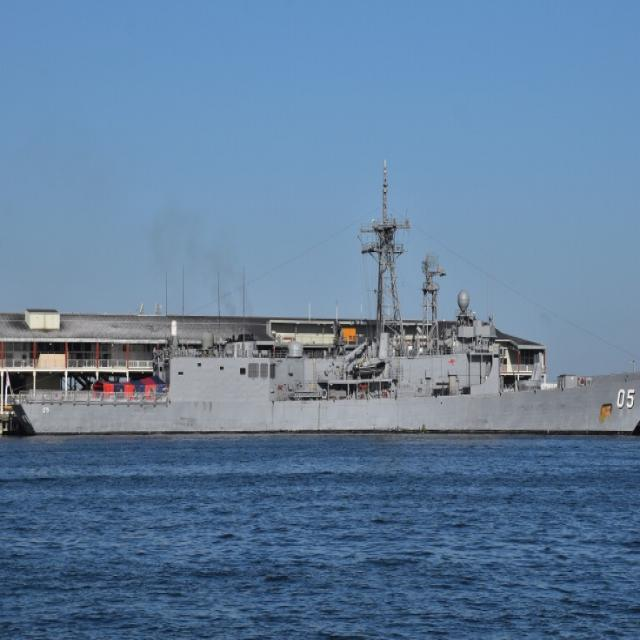Fragata: (4, 154, 640, 441)
